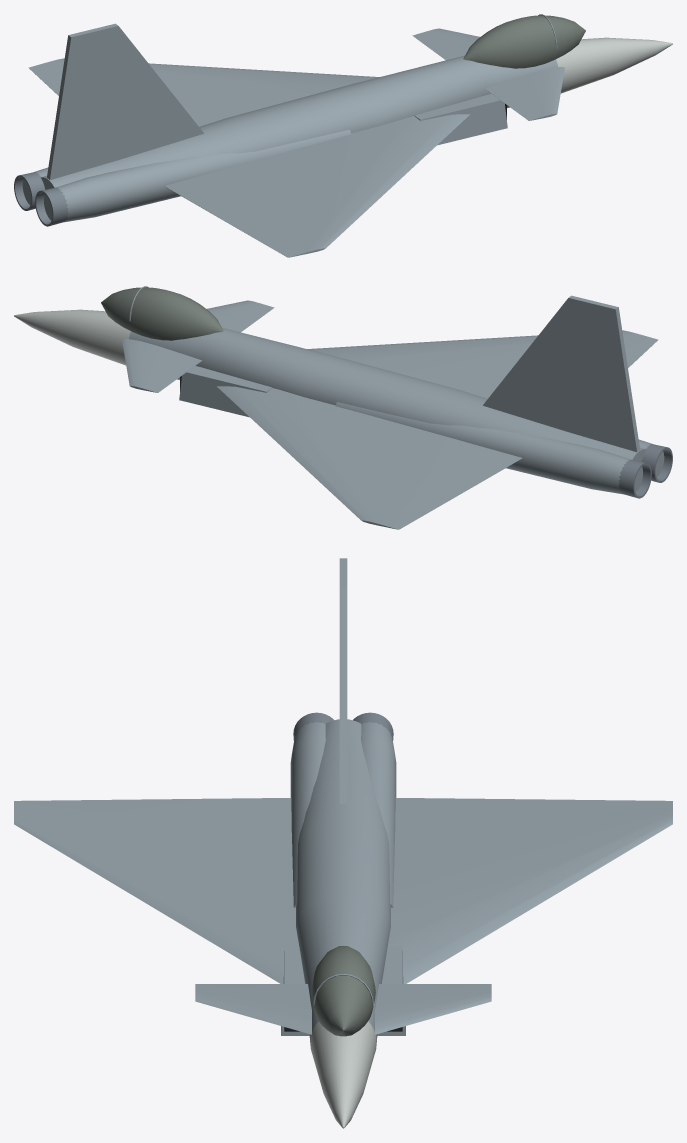
File: fra_fighter_rafale_m.glb
3 renders of one model, top to bottom at view 1: azimuth 30°, elevation 25°; view 2: azimuth 150°, elevation 25°; view 3: azimuth 270°, elevation 25°, orthographic. The views are drawn at different scales.
Parts seen in each view (by area): view 1: airframe, canopy_gold, array_face, titanium; view 2: airframe, canopy_gold, array_face, titanium; view 3: airframe, canopy_gold, array_face.
Boxes of the visible parts, x1,y1,x2,y2 form: airframe: (22, 14, 564, 257); canopy_gold: (463, 15, 585, 68); array_face: (556, 37, 672, 93); titanium: (14, 172, 68, 226); airframe: (122, 286, 664, 529); canopy_gold: (101, 287, 223, 340); array_face: (14, 309, 130, 365); titanium: (618, 444, 672, 498); airframe: (14, 558, 672, 1042); canopy_gold: (311, 946, 375, 1036); array_face: (310, 1021, 376, 1128).
Bounding box in the file's own units: 10 × 2.68 × 7.04.
